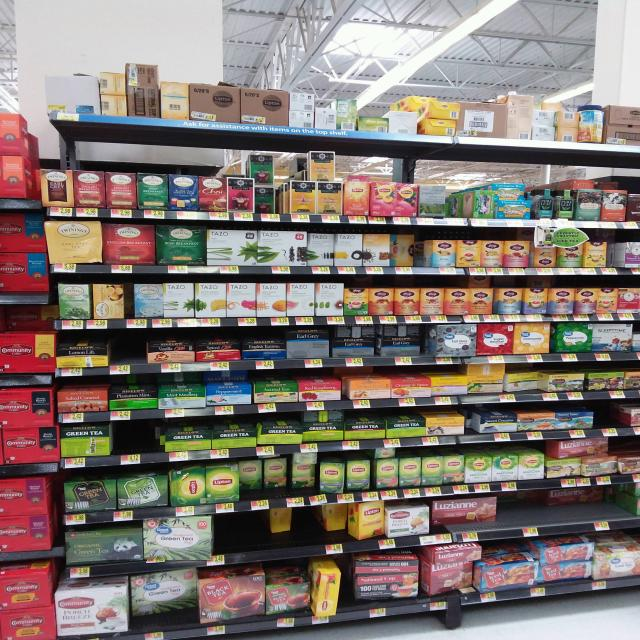empty: (210, 507, 274, 562), (494, 490, 547, 531), (109, 415, 160, 456), (106, 327, 150, 370)
